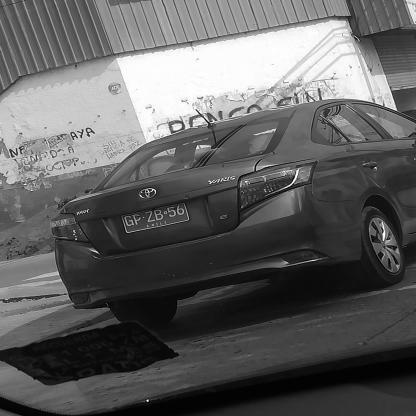Patente: (117, 198, 193, 236)
